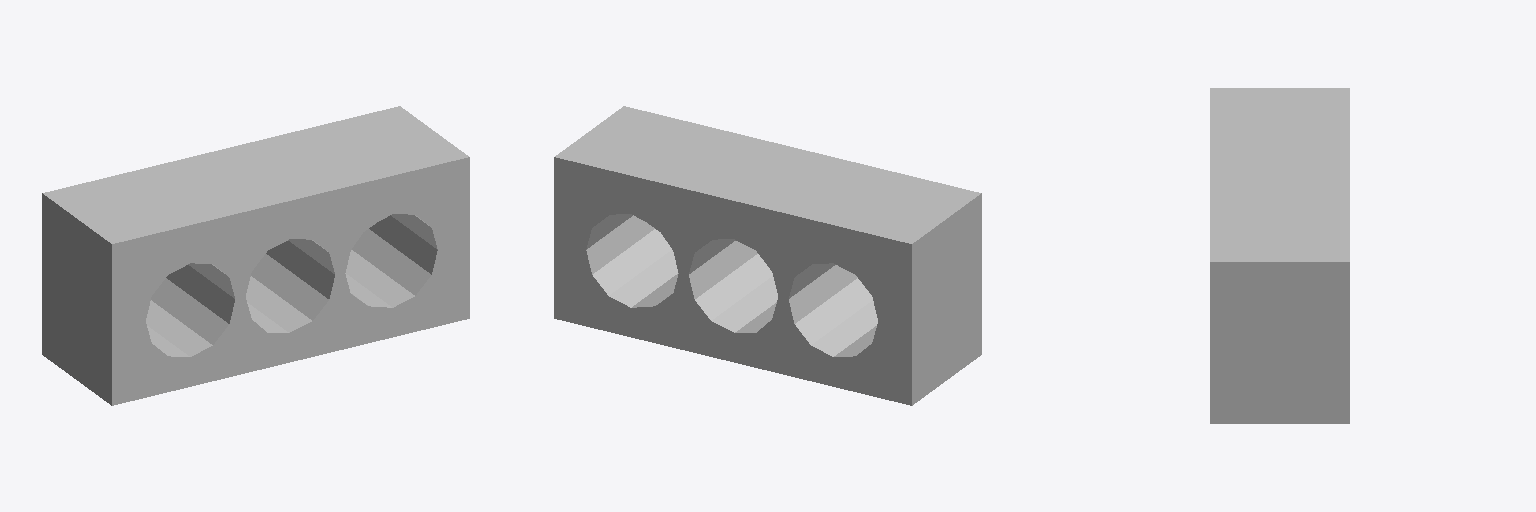
Rendered from Brick.obj.
3 views of the same model, side by side, from view 1: azimuth 30°, elevation 25°; view 2: azimuth 150°, elevation 25°; view 3: azimuth 270°, elevation 25° (orthographic).
Parts seen in each view (by area): view 1: Cube5.001; view 2: Cube5.001; view 3: Cube5.001.
Boxes of the visible parts, <box> form: Cube5.001: <box>42,106,469,405</box>; Cube5.001: <box>554,106,981,405</box>; Cube5.001: <box>1210,88,1349,423</box>.
Size of the model in its own units: 1.3 by 0.5602 by 0.4379.